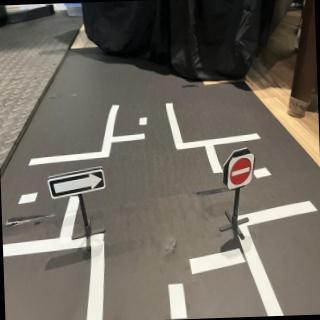sign_noentry: (227, 153, 259, 194)
sign_oneway_right: (47, 165, 108, 202)
